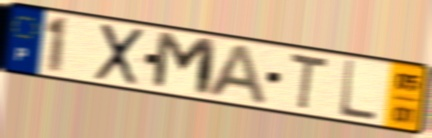1: (43, 14, 74, 78)
A: (203, 42, 270, 108)
L: (337, 58, 379, 124)
M: (149, 29, 220, 100)
T: (287, 50, 330, 114)
X: (92, 22, 148, 89)
